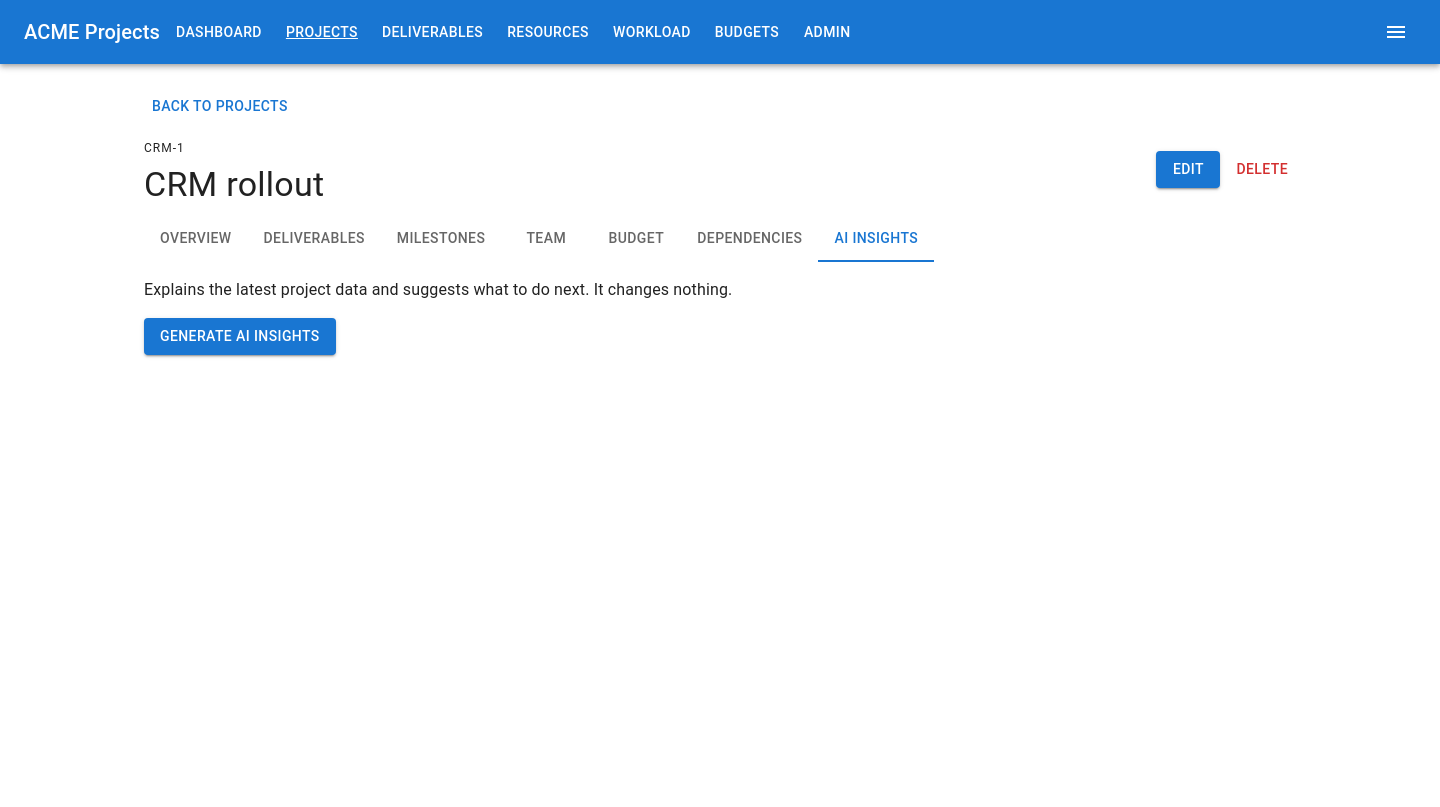
AI insights › marks rule-based observations clearly
The image size is (1440, 807).
Click the button "Generate AI Insights".
click(240, 337)  # box top-left (144, 318), bottom-right (336, 355)
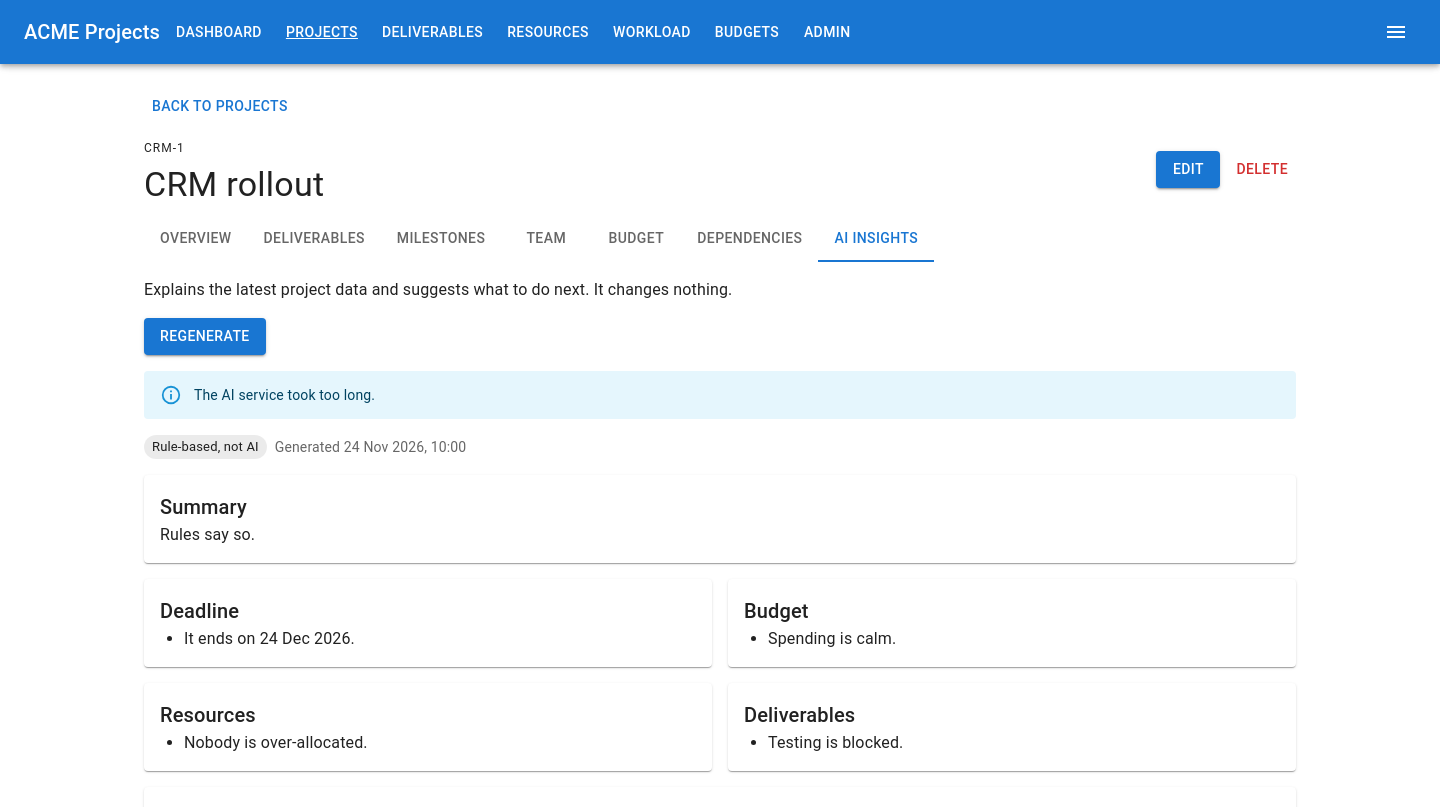
expect the text "Rule-based, not AI" is shown: met, box top-left (144, 437), bottom-right (267, 457)
expect the text "The AI service took too long." is shown: met, box top-left (194, 387), bottom-right (375, 403)
